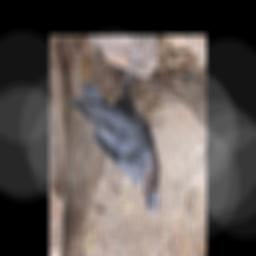Crow: (69, 35, 160, 216)
